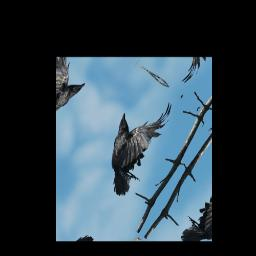Crow: (88, 79, 184, 202)
